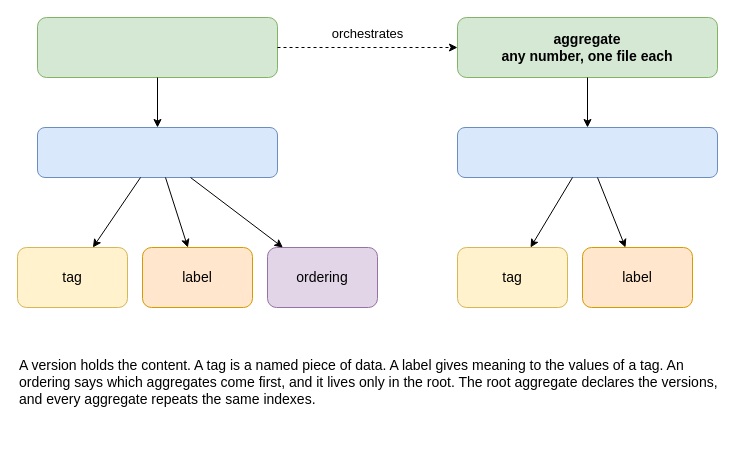
Some shapes in this 755 by 450 pixel diagram are drawn without their labels. Each missing label, with the centre of its shape:
"root aggregate exactly one" belongs at (x=157, y=47).
"version (0, 1, 2, ...)" belongs at (x=157, y=152).
"version (the same indexes)" belongs at (x=587, y=152).
